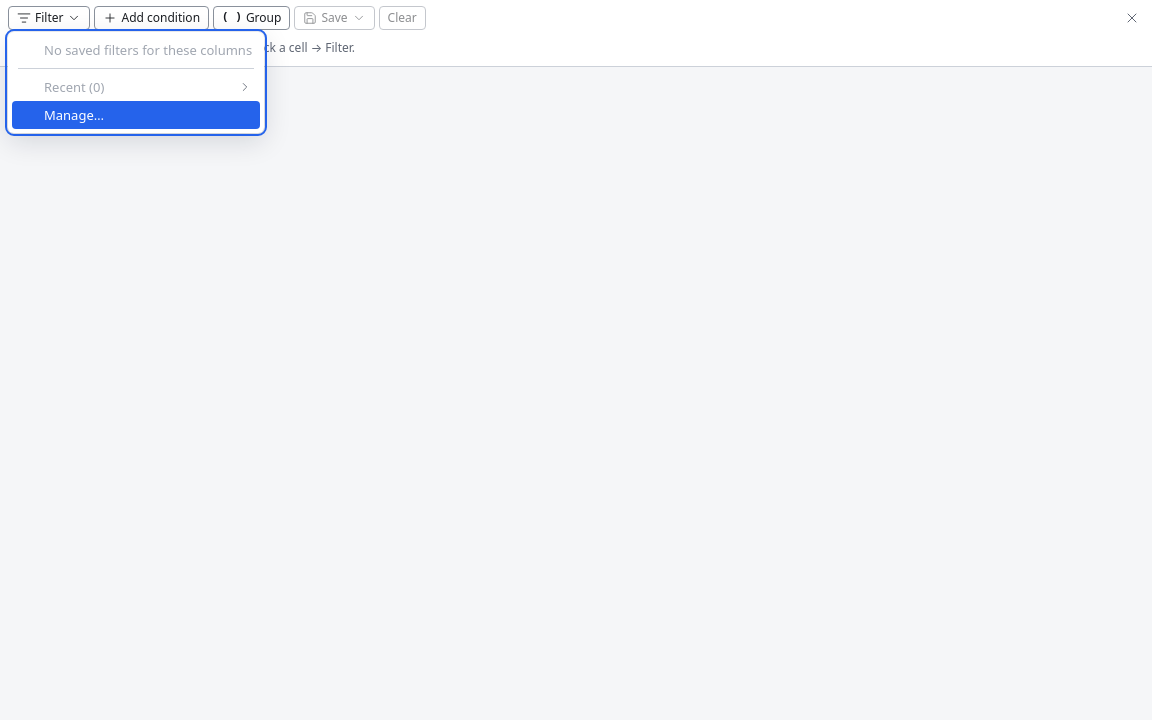
Test: FilterBar › manage dialog renames and deletes saved filters
Click the button "Filter": (49, 18) [8,6,90,30]
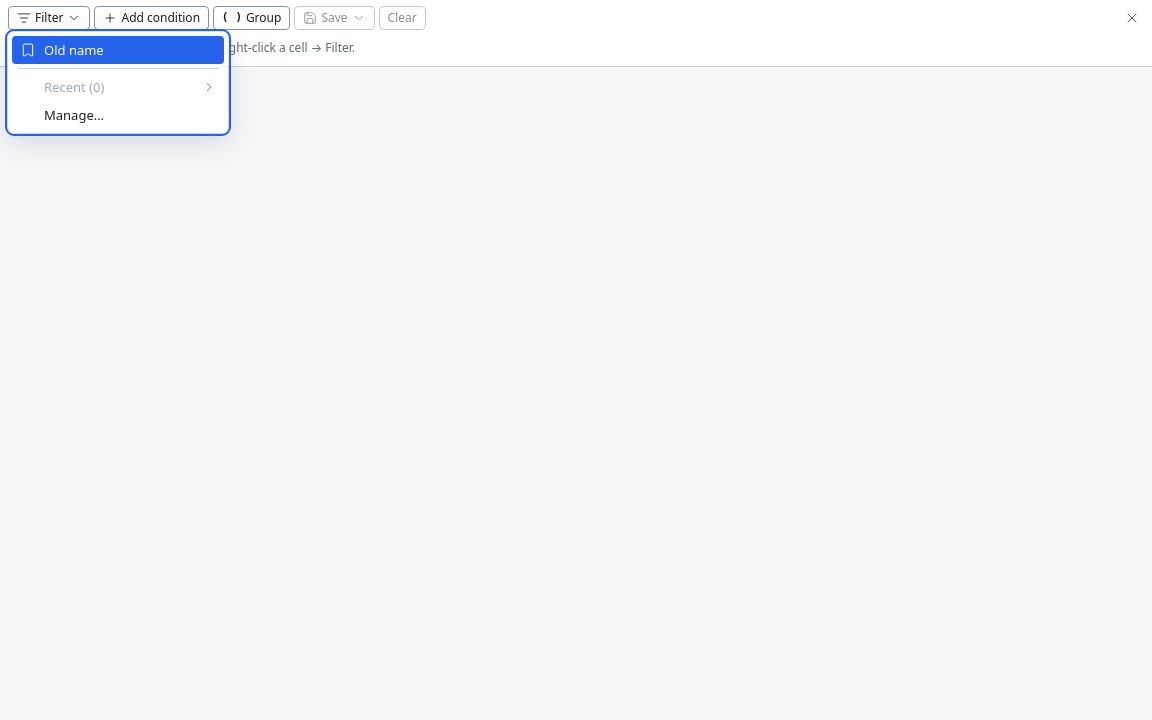
Click the menu item "Manage…": (74, 115) [44,106,104,124]
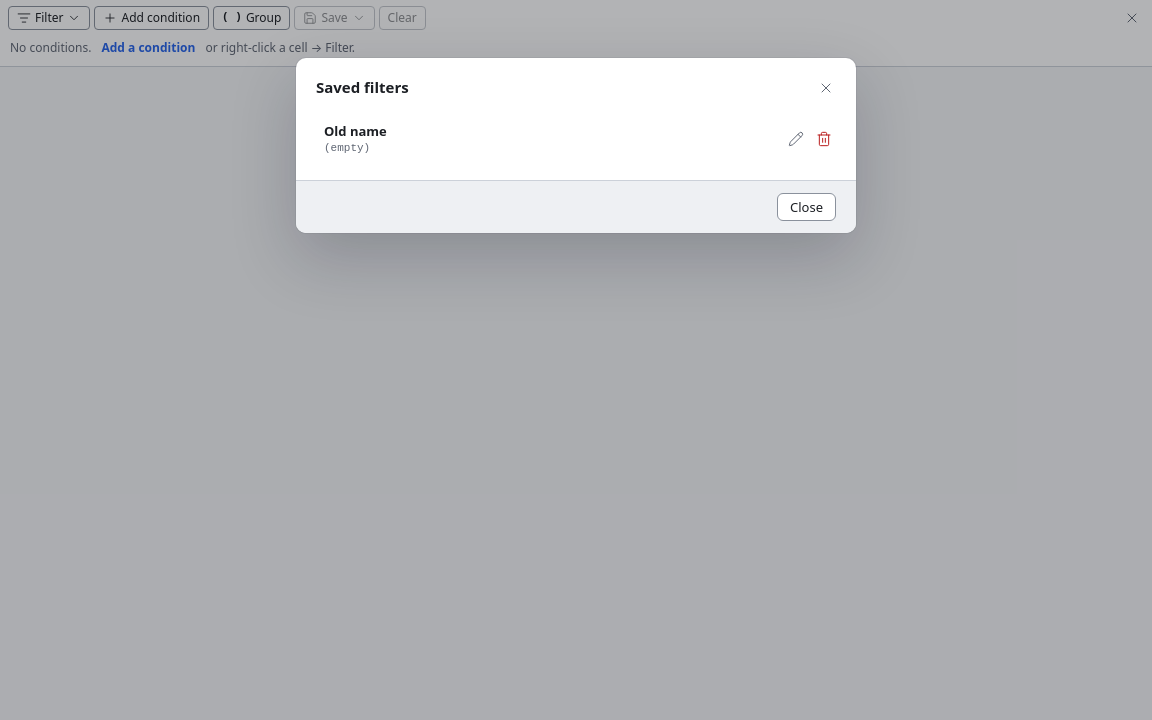
Click the button named "Rename Old name": (796, 139) [784,127,808,151]
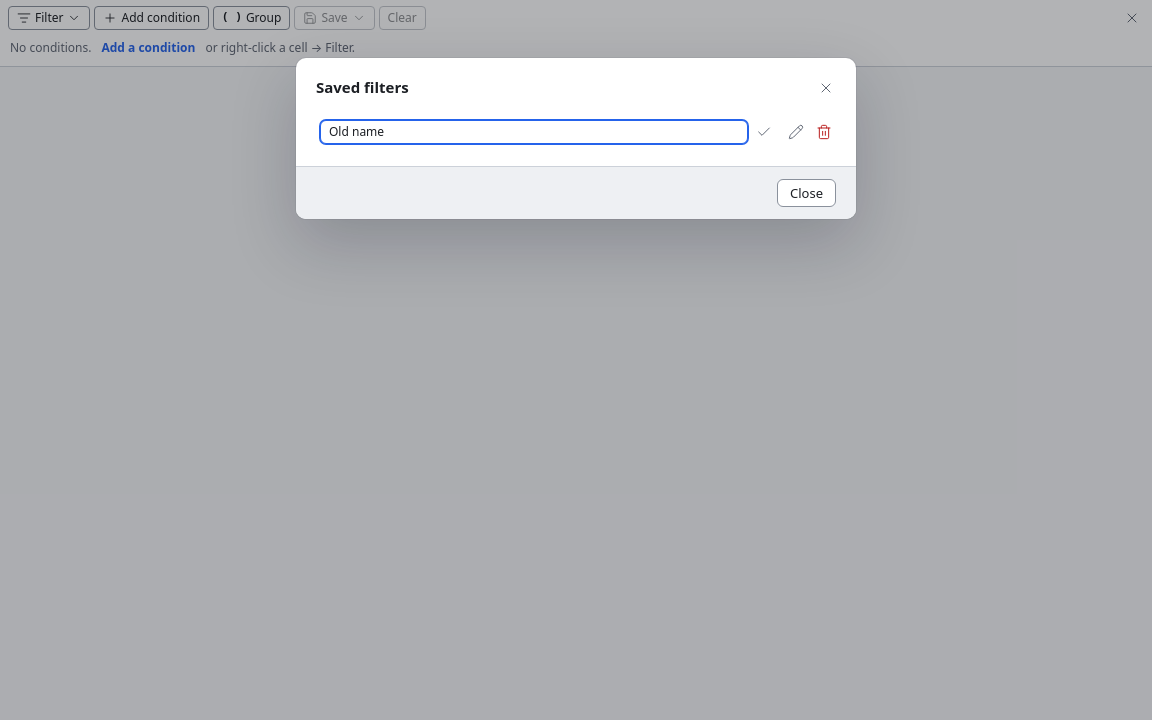
Replace the text in the field named "Filter name" with "New name": (534, 132) [320,120,748,144]
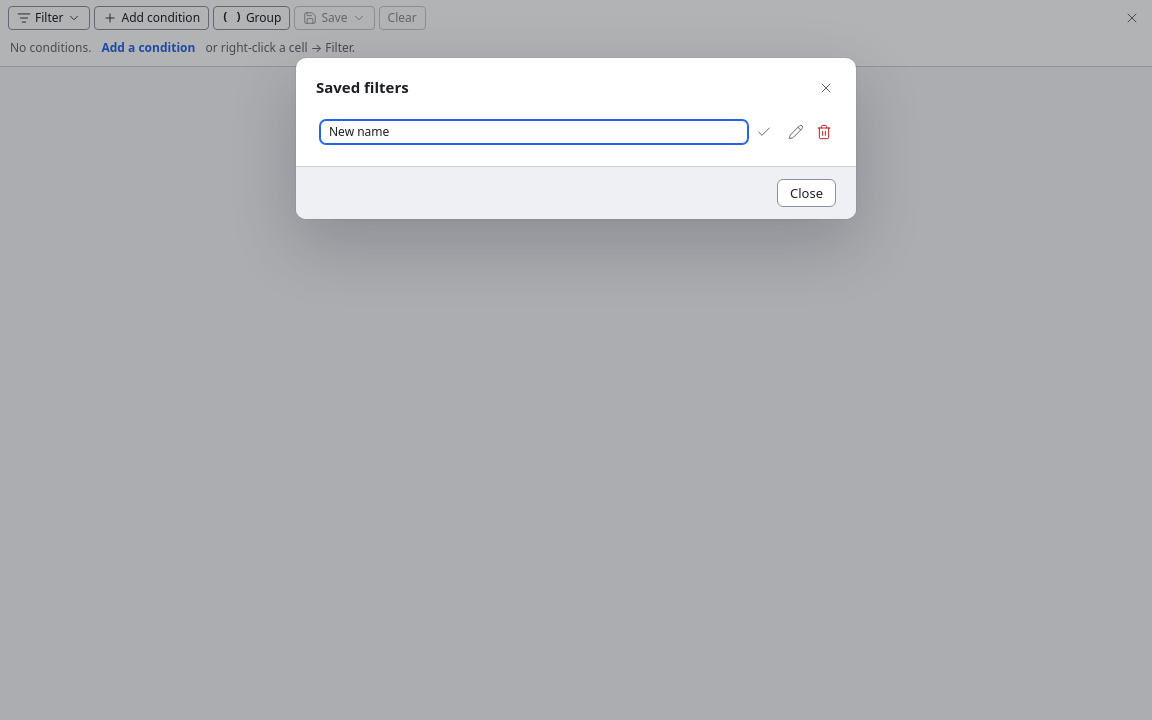
Click the button named "Save name": (764, 132) [752,120,776,144]
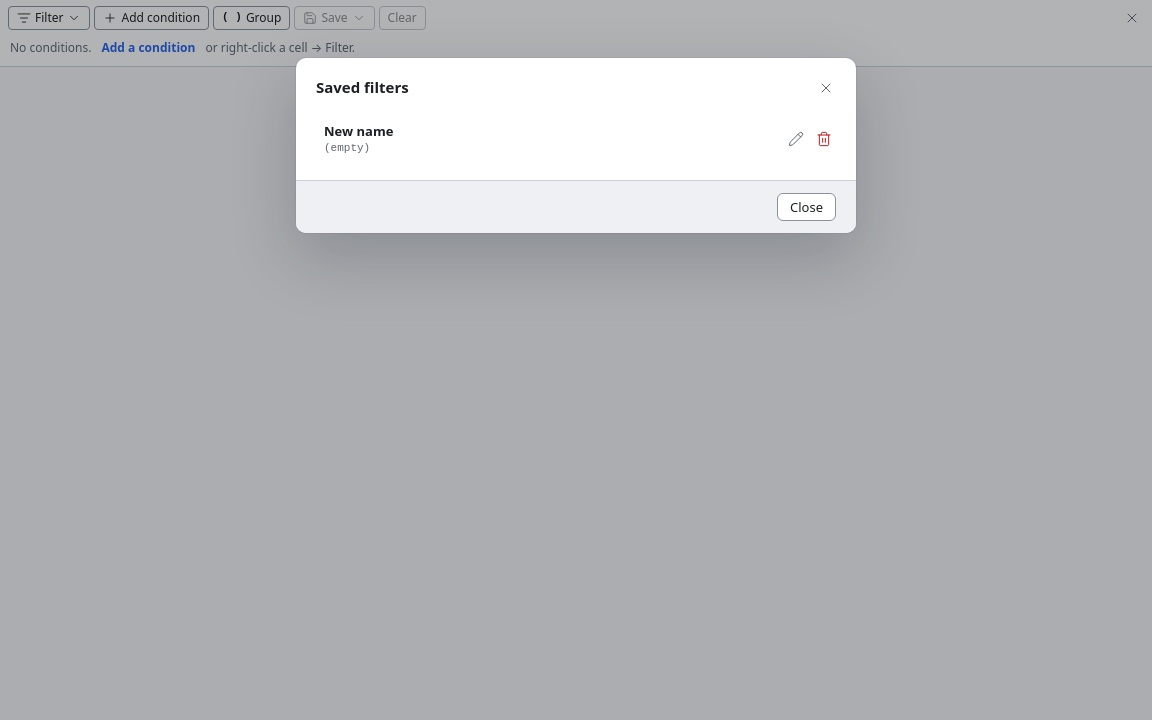
Click the button named "Delete New name": (824, 139) [812,127,836,151]
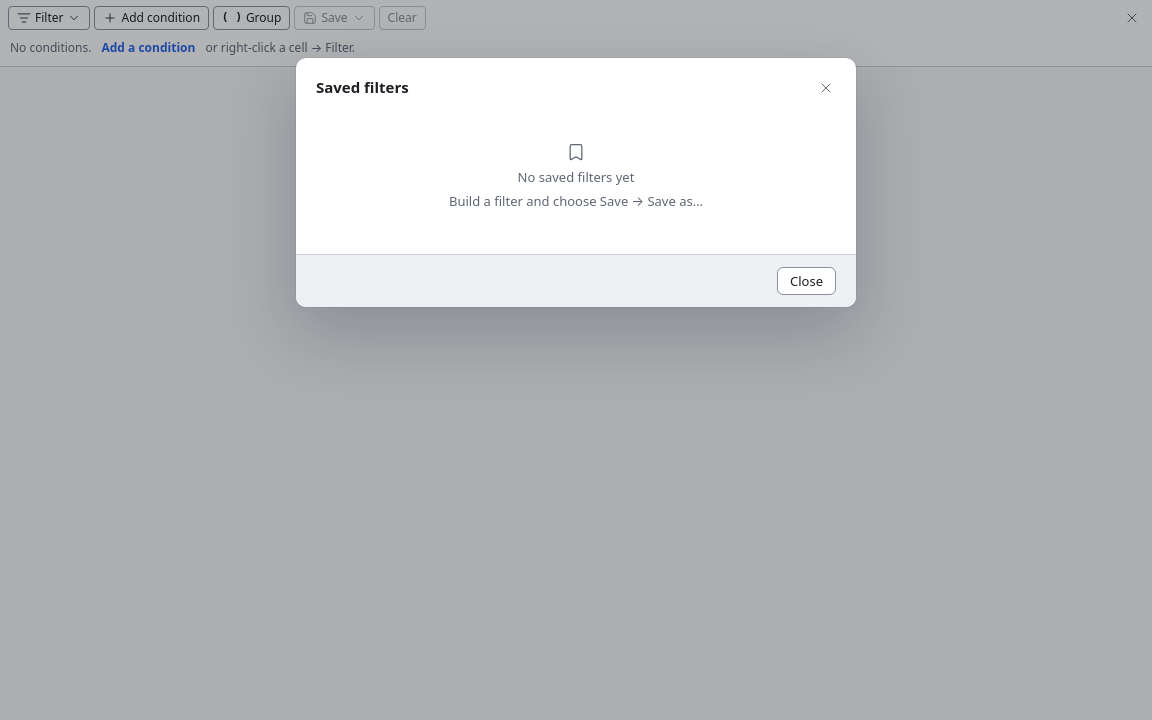
Now the text "No saved filters yet" is shown, box [518,168,634,186]
